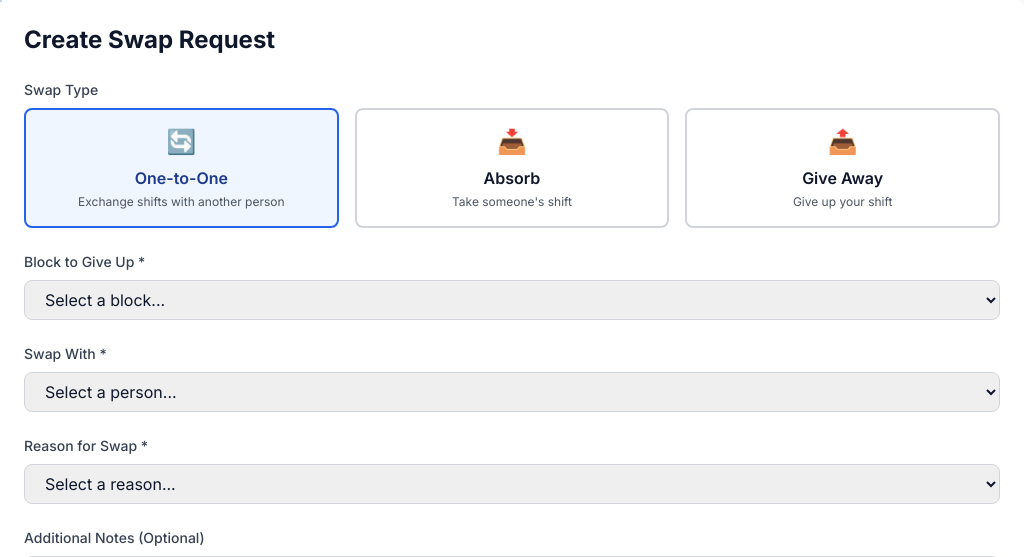
Test: SwapRequestForm › One-to-One Swap Flow › displays target block details when selected
This screenshot has width=1024, height=557.
// Select target person
Select "Dr. Alice Smith (PGY-2)" in the dropdown labelled "Swap With *" at (512,392), box [24,372,1000,412]
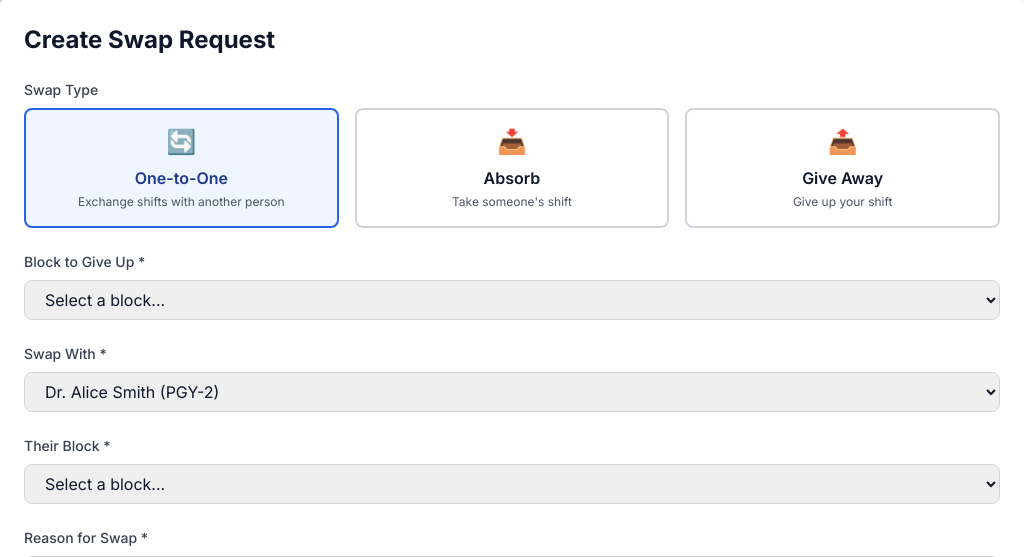
// Wait for target blocks to load and select to appear
Select "1/16/2025 - AM - Procedure" in the dropdown labelled "Their Block *" at (512,484), box [24,464,1000,504]
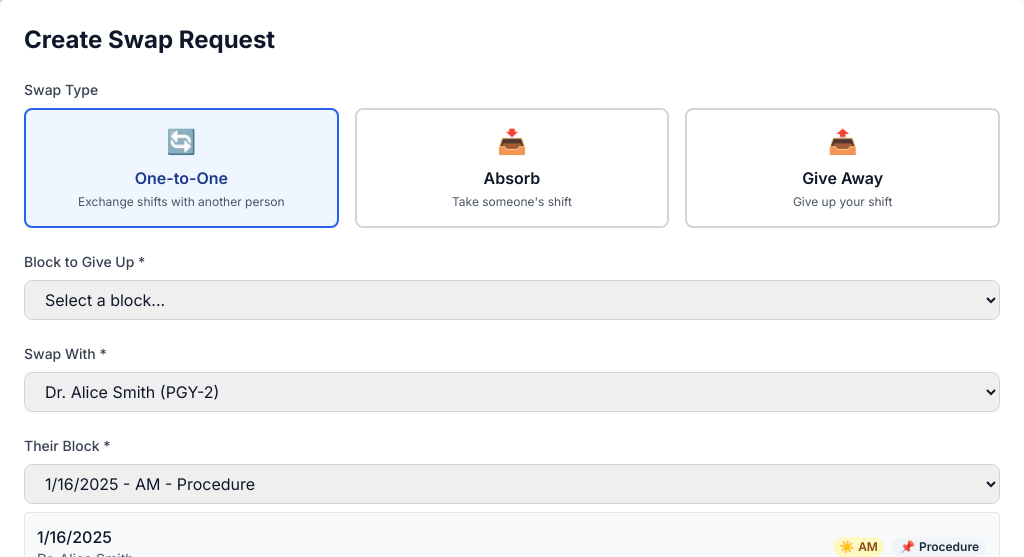
Result: the text "1/16/2025" is shown at [37,527,112,547]
